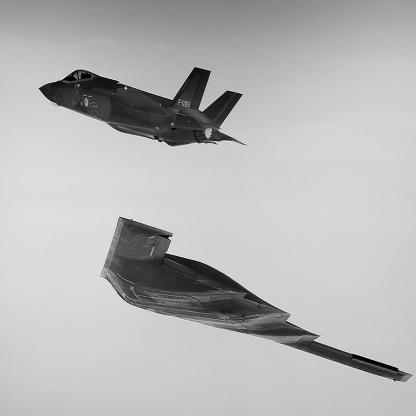B2: (101, 217, 414, 383)
F35: (39, 67, 249, 148)
